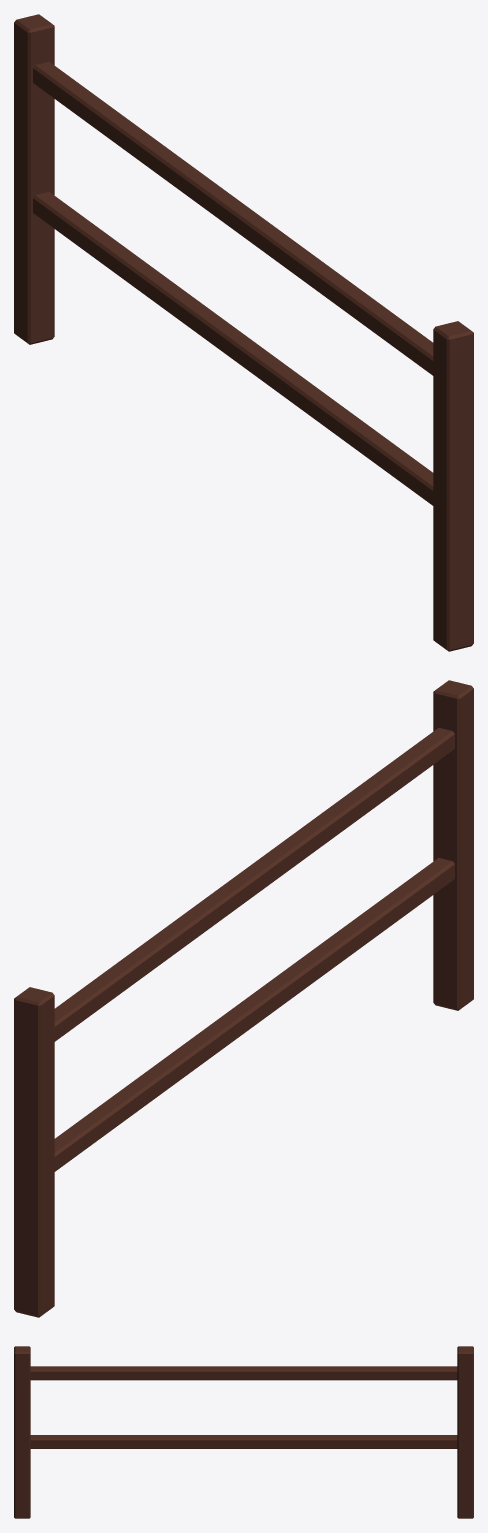
Rendered from Fence A.glb.
3 renders of one model, top to bottom at view 1: azimuth 30°, elevation 25°; view 2: azimuth 150°, elevation 25°; view 3: azimuth 270°, elevation 25°, orthographic. The views are drawn at different scales.
Visible parts, largest first — view 1: Fence A; view 2: Fence A; view 3: Fence A.
Boxes of the visible parts, x1,y1,x2,y2 form: Fence A: [14, 14, 473, 651]; Fence A: [14, 680, 473, 1317]; Fence A: [14, 1346, 473, 1518].
Size of the model in its own units: 0.0435 by 0.48 by 1.2.
